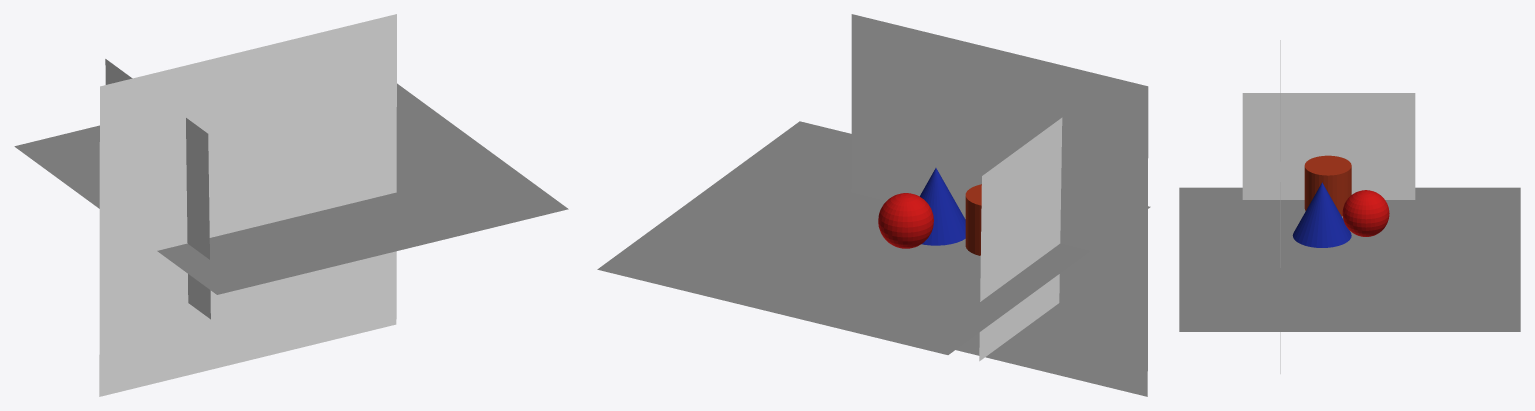
The model's file is ruben3.obj.
The picture shows the model from 3 angles, left to right: view 1: azimuth 30°, elevation 25°; view 2: azimuth 150°, elevation 25°; view 3: azimuth 270°, elevation 25°; orthographic projection. The views are drawn at different scales.
Parts seen in each view (by area): view 1: Plane.001, Plane, Plane.002; view 2: Plane.001, Plane, Plane.002, Sphere, Cone.001, Cylinder; view 3: Plane, Plane.002, Cone.001, Cylinder, Sphere.
Part boxes in pixels (x1,y1,x2,y2): Plane.001: (99,14,396,396); Plane: (14,83,568,294); Plane.002: (105,59,210,319); Plane.001: (851,14,1148,396); Plane: (597,121,1150,354); Plane.002: (979,117,1062,361); Sphere: (878,193,933,248); Cone.001: (919,168,965,245); Cylinder: (965,184,981,255); Plane: (1179,187,1520,331); Plane.002: (1242,93,1415,199); Cone.001: (1292,182,1351,247); Cylinder: (1304,155,1351,216); Sphere: (1342,190,1389,236).
Bounding box in the file's own units: 16.87 × 12.25 × 14.51.
